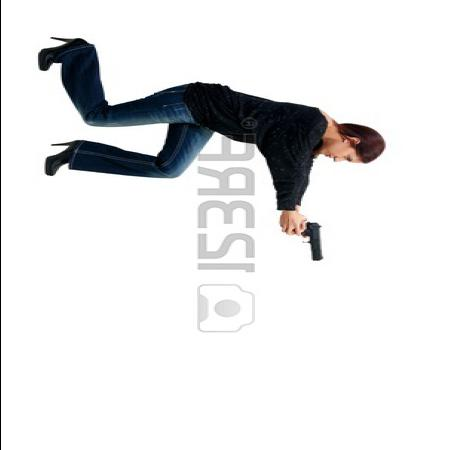Pistol: (278, 219, 324, 265)
